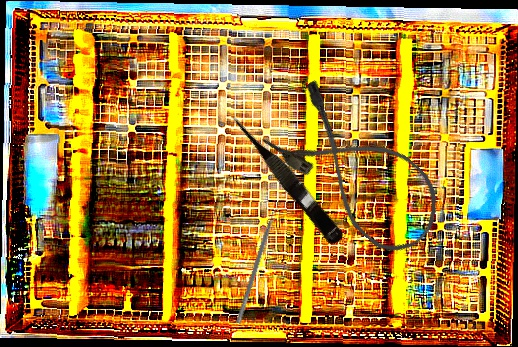Cannula: (258, 75, 456, 266)
Micro Scissor: (224, 105, 349, 248)
Spatula Surgical: (235, 204, 282, 326)
